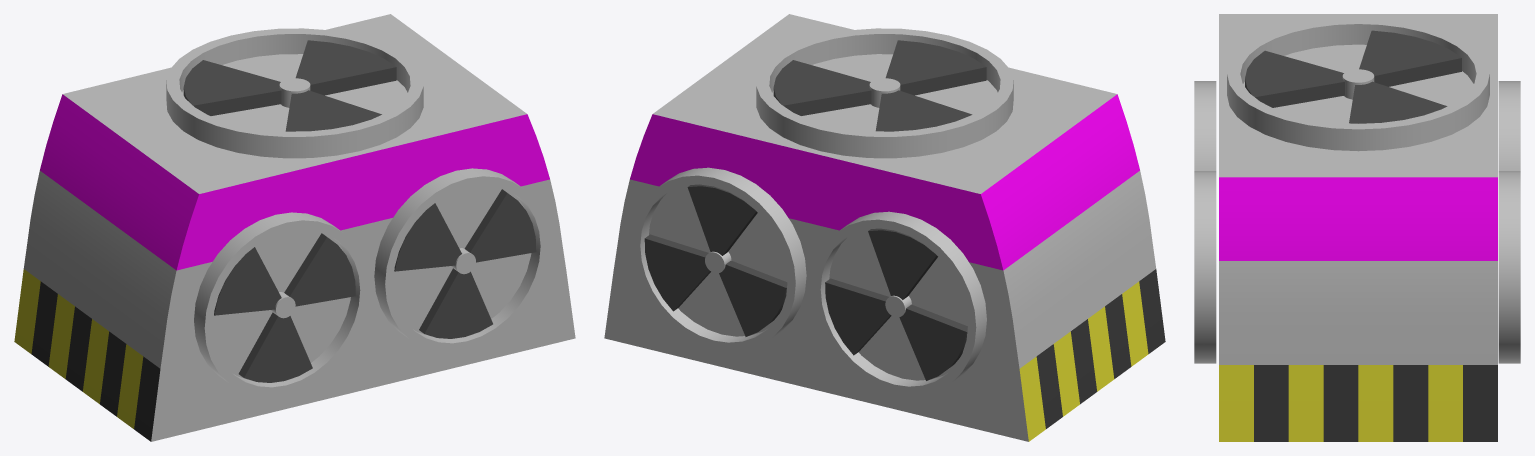
File: SupplyDepot.fbx
3 renders of one model, left to right at view 1: azimuth 30°, elevation 25°; view 2: azimuth 150°, elevation 25°; view 3: azimuth 270°, elevation 25°, orthographic.
Parts seen in each view (by area): view 1: Cube.008, Cylinder.004, Cylinder.006, Cylinder.008, Cylinder.005, Cylinder.007, Cylinder.009; view 2: Cube.008, Cylinder.004, Cylinder.012, Cylinder.010, Cylinder.005, Cylinder.013, Cylinder.011; view 3: Cube.008, Cylinder.004, Cylinder.005, Cylinder.008, Cylinder.012, Cylinder.006, Cylinder.010.
Part boxes in pixels (x1=…): Cube.008: x1=14, y1=14, x2=575, y2=441; Cylinder.004: x1=166, y1=28, x2=423, y2=158; Cylinder.006: x1=194, y1=212, x2=368, y2=396; Cylinder.008: x1=374, y1=168, x2=548, y2=352; Cylinder.005: x1=183, y1=40, x2=396, y2=131; Cylinder.007: x1=214, y1=233, x2=355, y2=382; Cylinder.009: x1=394, y1=189, x2=536, y2=338; Cube.008: x1=604, y1=14, x2=1165, y2=441; Cylinder.004: x1=756, y1=28, x2=1013, y2=158; Cylinder.012: x1=632, y1=167, x2=806, y2=351; Cylinder.010: x1=812, y1=211, x2=986, y2=395; Cylinder.005: x1=773, y1=40, x2=986, y2=131; Cylinder.013: x1=644, y1=184, x2=787, y2=336; Cylinder.011: x1=825, y1=228, x2=967, y2=380; Cube.008: x1=1219, y1=14, x2=1497, y2=441; Cylinder.004: x1=1227, y1=18, x2=1489, y2=151; Cylinder.005: x1=1245, y1=30, x2=1461, y2=123; Cylinder.008: x1=1194, y1=171, x2=1216, y2=363; Cylinder.012: x1=1498, y1=171, x2=1520, y2=363; Cylinder.006: x1=1194, y1=81, x2=1216, y2=170; Cylinder.010: x1=1498, y1=81, x2=1520, y2=170.
Bounding box in the file's own units: 144 × 83.29 × 93.88.
